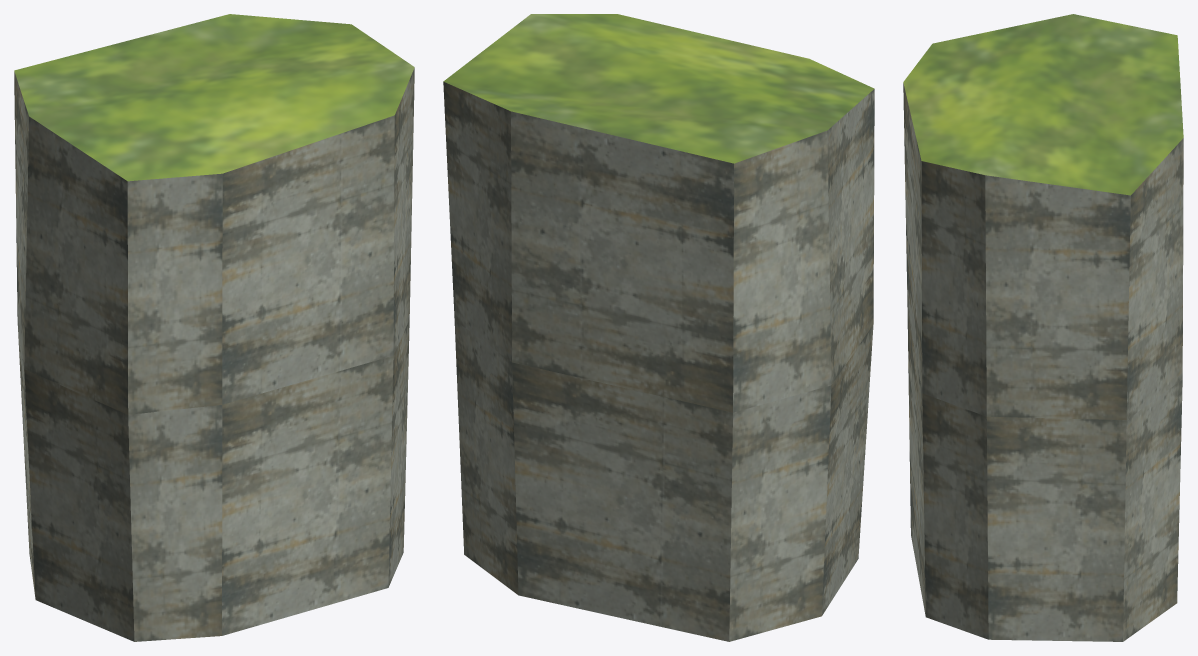
The model's file is Cliff_Block_B.glb.
The picture shows the model from 3 angles, left to right: view 1: azimuth 30°, elevation 25°; view 2: azimuth 150°, elevation 25°; view 3: azimuth 270°, elevation 25°; orthographic projection. The views are drawn at different scales.
Parts seen in each view (by area): view 1: Cliff_Block_B; view 2: Cliff_Block_B; view 3: Cliff_Block_B.
Boxes of the visible parts, left/top/right/bottom form: Cliff_Block_B: left=14, top=14, right=414, bottom=641; Cliff_Block_B: left=443, top=14, right=874, bottom=641; Cliff_Block_B: left=903, top=14, right=1183, bottom=641.
Bounding box in the file's own units: 4.25 × 5.52 × 2.99.
1 material, 1 textured.
